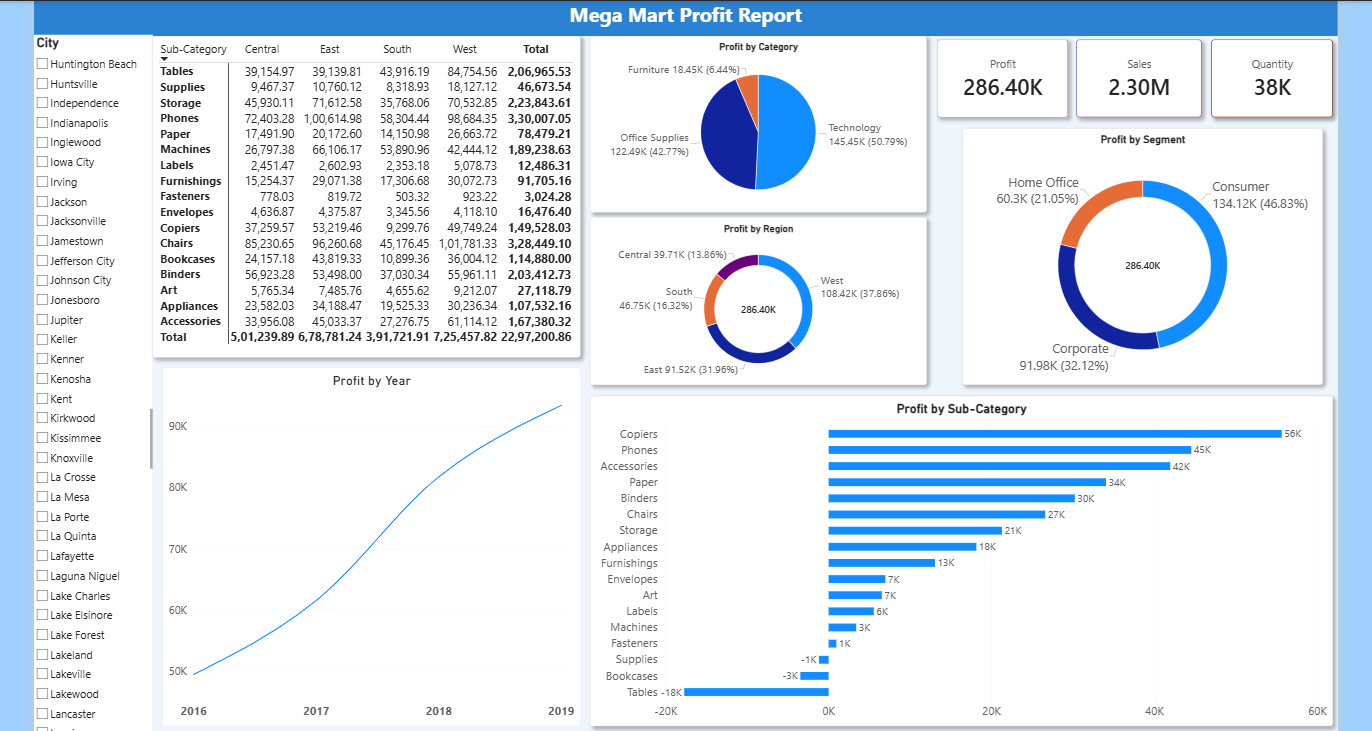

The page's visual inventory and layout, read from the dashboard file:
{"tool":"powerbi","page":{"name":"Profit Report","canvas":[3840,2160],"ordinal":0},"visuals":[{"type":"textbox","box":[0,0,3839.3,103.1],"z":0},{"type":"cardVisual","fields":{"Data":["Sum(Orders.Sales)"]},"box":[3070,114.1,368.1,228.2],"z":1000},{"type":"cardVisual","fields":{"Data":["Sum(Orders.Quantity)"]},"box":[3467.5,114.1,357.1,228.2],"z":2000},{"type":"cardVisual","fields":{"Data":["Sum(Orders.Profit)"]},"box":[2661.4,114.1,382.8,228.2],"z":3000},{"type":"slicer","fields":{"Values":["Orders.City"]},"box":[0,99.4,349.7,2061.4],"z":4000},{"type":"pivotTable","fields":{"Rows":["Orders.Sub-Category"],"Columns":["Orders.Region"],"Values":["Sum(Orders.Sales)"]},"box":[349.7,103.1,1258.9,946],"z":5000},{"type":"lineChart","title":"Profit by Year","fields":{"Category":["Orders.Order Date.Variation.Date Hierarchy.Year","Orders.Order Date.Variation.Date Hierarchy.Quarter","Orders.Order Date.Variation.Date Hierarchy.Month","Orders.Order Date.Variation.Date Hierarchy.Day"],"Y":["Sum(Orders.Profit)"]},"box":[379.1,1078.5,1229.5,1056.4],"z":6000},{"type":"barChart","title":"Profit by Sub-Category","fields":{"Y":["Sum(Orders.Profit)"],"Category":["Orders.Sub-Category"]},"box":[1638,1163.2,2186.5,971.8],"z":7000},{"type":"pieChart","title":"Profit by Category","fields":{"Y":["Sum(Orders.Profit)"],"Category":["Orders.Category"]},"box":[1638,103.1,990.2,519],"z":8000},{"type":"donutChart","title":"Profit by Segment","fields":{"Y":["Sum(Orders.Profit)"],"Category":["Orders.Segment"]},"box":[2735,375.5,1060.1,754.6],"z":9000},{"type":"donutChart","title":"Profit by Region","fields":{"Y":["Sum(Orders.Profit)"],"Category":["Orders.Region"]},"box":[1638,636.8,990.2,493.3],"z":10000}]}

Visuals, with their boxes on the page's 3840x2160 design canvas (x1, y1, x2, y2). These are canvas units, not pixel positions in the 1372x731 screenshot, which may show the page scaled, cropped or inside an application window:
textbox: left=0, top=0, right=3839, bottom=103
cardVisual - Sum(Orders.Sales): left=3070, top=114, right=3438, bottom=342
cardVisual - Sum(Orders.Quantity): left=3468, top=114, right=3825, bottom=342
cardVisual - Sum(Orders.Profit): left=2661, top=114, right=3044, bottom=342
slicer - Orders.City: left=0, top=99, right=350, bottom=2161
pivotTable - Orders.Sub-Category x Orders.Region: left=350, top=103, right=1609, bottom=1049
"Profit by Year" lineChart: left=379, top=1078, right=1609, bottom=2135
"Profit by Sub-Category" barChart: left=1638, top=1163, right=3824, bottom=2135
"Profit by Category" pieChart: left=1638, top=103, right=2628, bottom=622
"Profit by Segment" donutChart: left=2735, top=376, right=3795, bottom=1130
"Profit by Region" donutChart: left=1638, top=637, right=2628, bottom=1130
